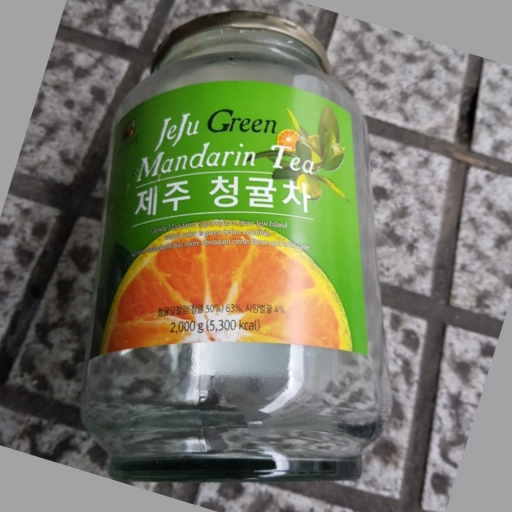Glass_5: (96, 14, 391, 480)
